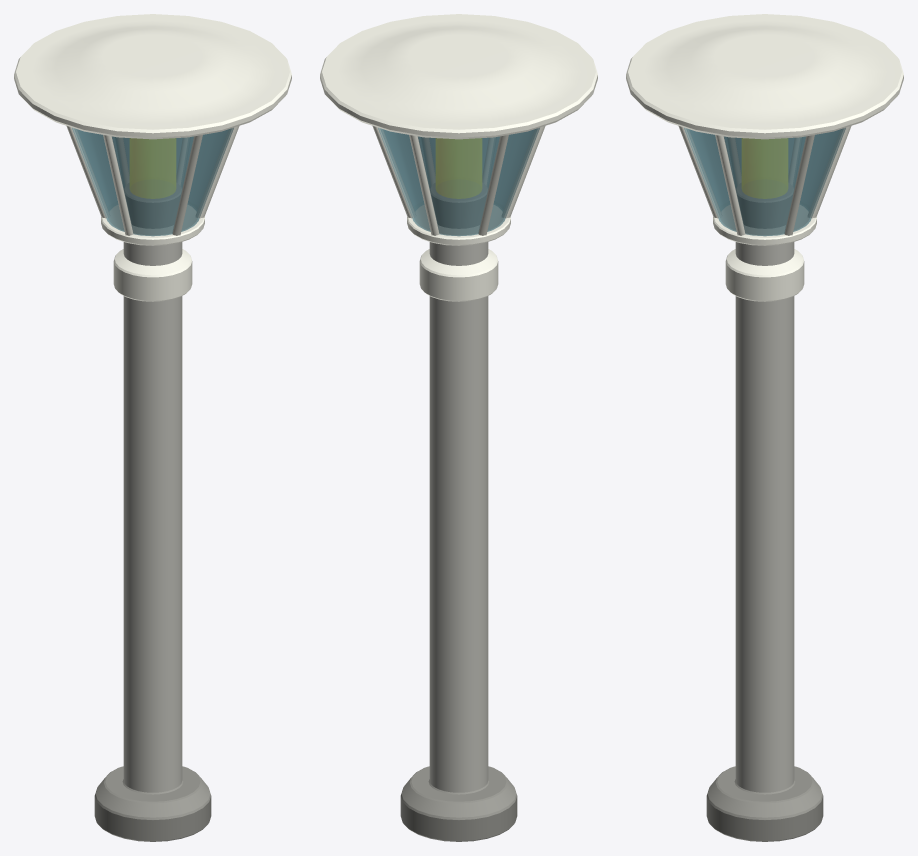
The model's file is lamp.fbx.
3 renders of one model, left to right at view 1: azimuth 30°, elevation 25°; view 2: azimuth 150°, elevation 25°; view 3: azimuth 270°, elevation 25°, orthographic.
Parts seen in each view (by area): view 1: lamp_4; view 2: lamp_4; view 3: lamp_4.
Part boxes in pixels (box(x1,y1,x2,y2)): lamp_4: box(14, 14, 291, 841); lamp_4: box(320, 14, 597, 841); lamp_4: box(626, 14, 903, 841).
Size of the model in its own units: 42.43 by 128 by 42.43.
